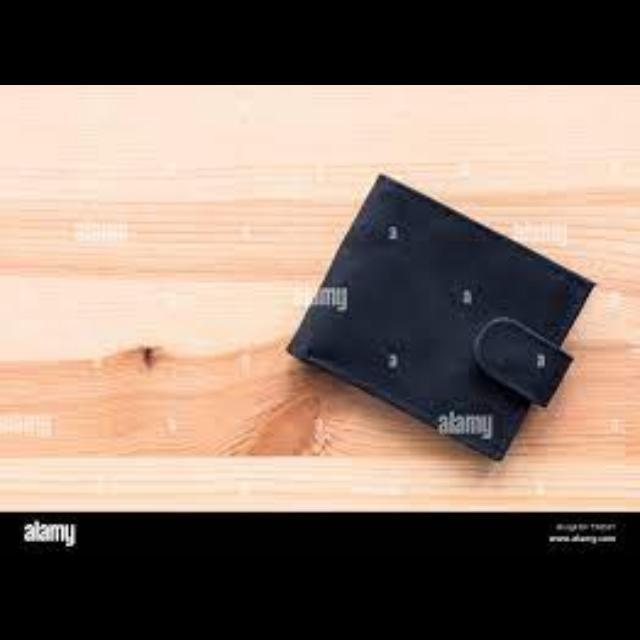Wallet: (284, 160, 600, 456)
